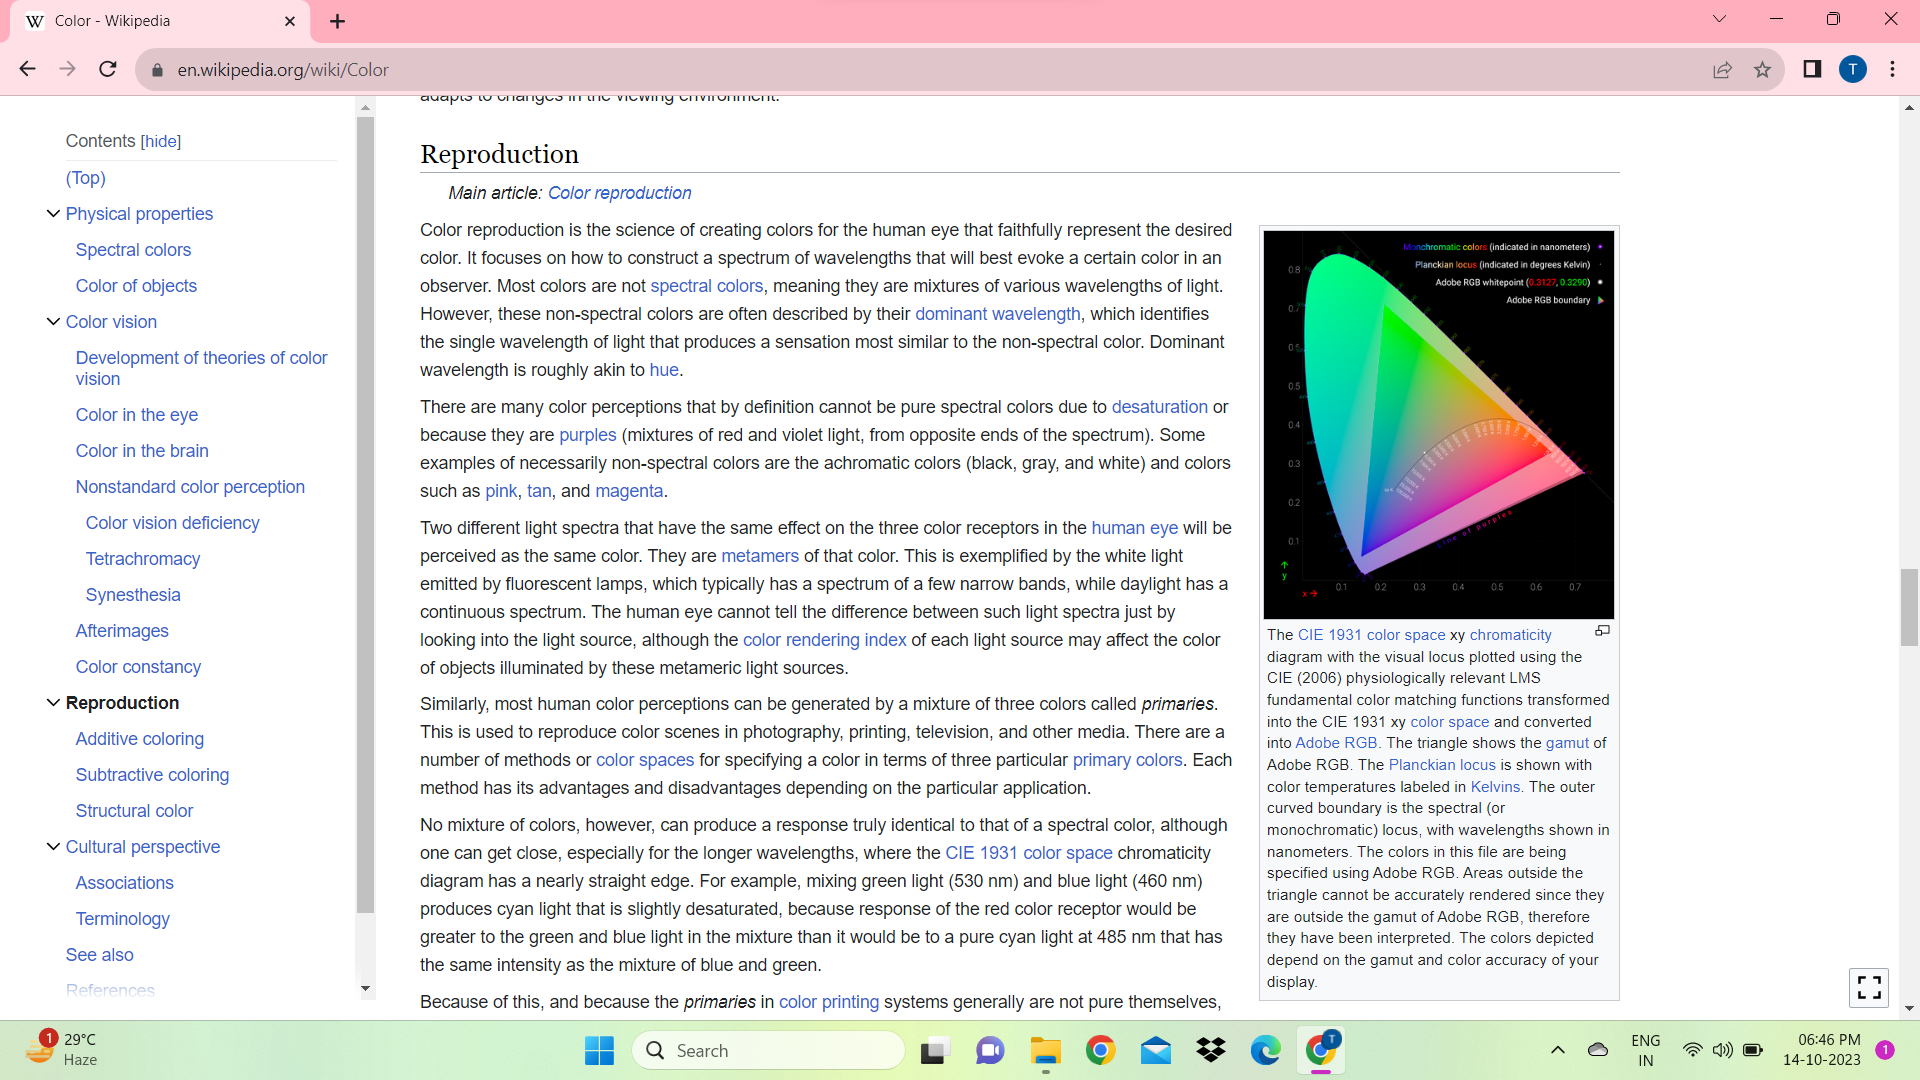Image: (1265, 220, 1618, 615)
Paragraph: (404, 512, 1241, 678), (1253, 620, 1625, 990), (410, 815, 1238, 980), (397, 220, 1236, 376), (404, 384, 1247, 505), (411, 691, 1241, 807), (401, 984, 1221, 1007), (67, 340, 330, 390), (404, 132, 601, 177), (67, 471, 316, 501), (78, 509, 281, 542), (435, 181, 696, 200), (62, 651, 231, 682), (67, 435, 240, 464), (71, 543, 220, 574), (61, 828, 223, 856), (57, 203, 233, 228), (78, 576, 199, 608), (67, 394, 210, 421), (69, 613, 179, 645), (69, 764, 235, 785), (69, 727, 214, 750), (67, 276, 214, 298), (62, 692, 187, 716), (69, 906, 183, 930), (67, 798, 200, 818), (58, 240, 203, 257), (71, 872, 187, 891), (58, 311, 164, 330), (41, 133, 193, 145), (54, 947, 145, 963), (50, 169, 123, 183)
